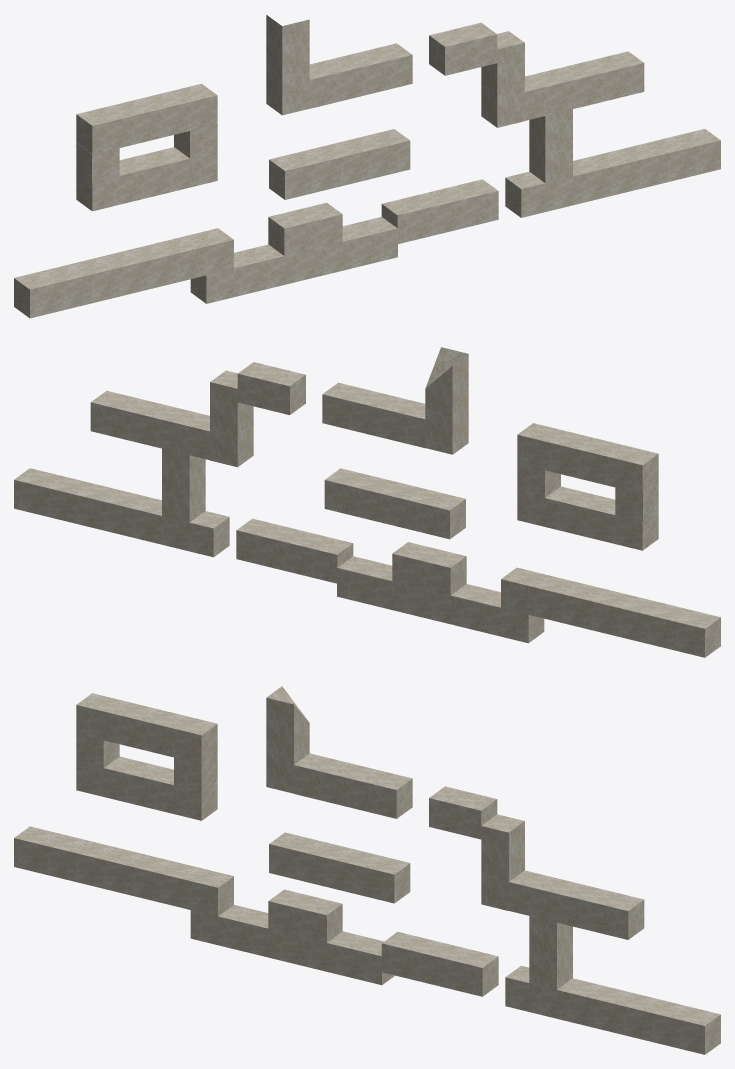
Rendered from map3.gltf.
3 views of the same model, one above another, from view 1: azimuth 30°, elevation 25°; view 2: azimuth 150°, elevation 25°; view 3: azimuth 330°, elevation 25° (orthographic).
Parts seen in each view (by area): view 1: Cube; view 2: Cube; view 3: Cube.
Boxes of the visible parts, <box> form: Cube: <box>14,15,720,318</box>; Cube: <box>14,347,720,657</box>; Cube: <box>14,686,720,1054</box>.
Size of the model in its own units: 50.08 by 17.96 by 2.
Materials: 1 (1 with a texture image).
